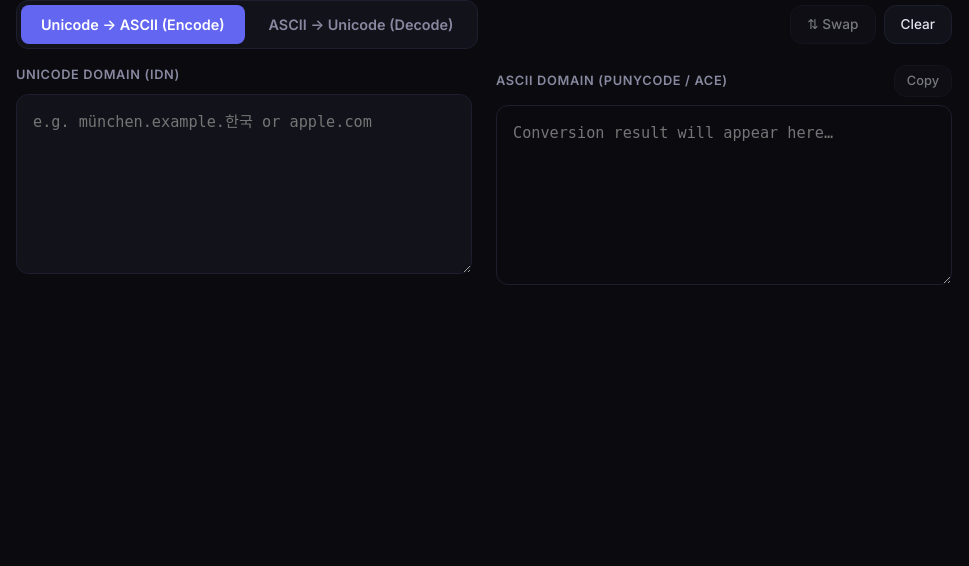
Scenario: PunycodeTool conversion › decodes ASCII Punycode domain to Unicode after switching mode
The width and height of the screenshot is (969, 566).
Click the button "ASCII → Unicode (Decode)".
click(361, 24)  # box x1=248 y1=5 x2=473 y2=44
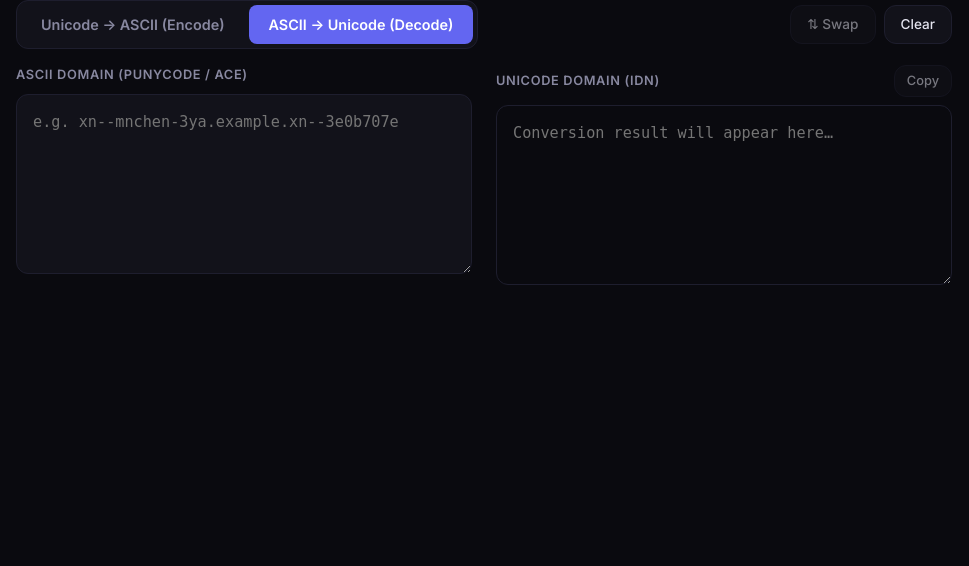
Type "xn--mnchen-3ya.example.com" into the text box labelled "ASCII Domain (Punycode / ACE)".
click(244, 184); type("xn--mnchen-3ya.example.com")  # box x1=16 y1=94 x2=472 y2=274
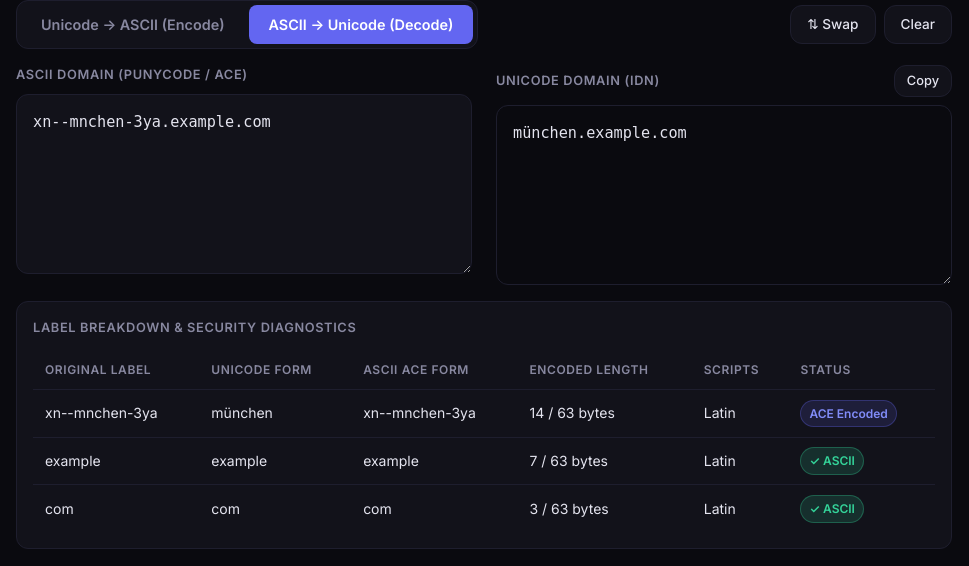
Expected: the text box labelled "Unicode Domain (IDN)" holds "münchen.example.com", x1=496 y1=105 x2=952 y2=285
